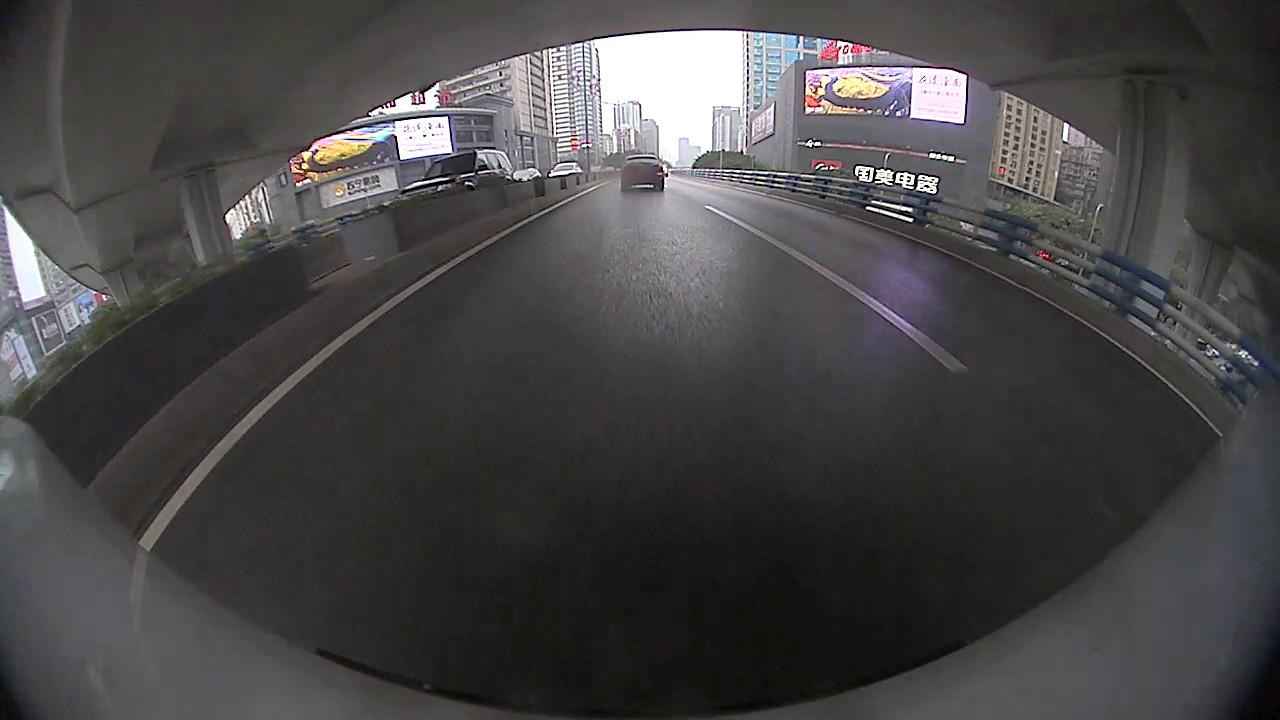car: (397, 145, 518, 202), (617, 151, 670, 198), (544, 158, 586, 180)
